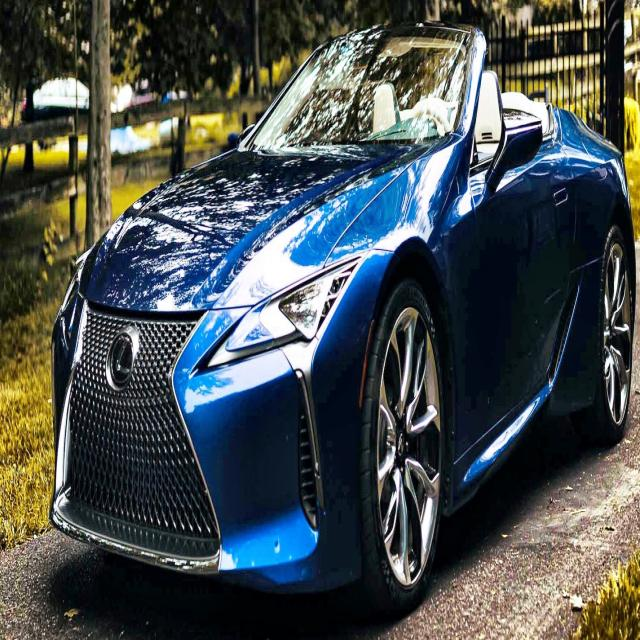blue: (54, 26, 636, 604)
